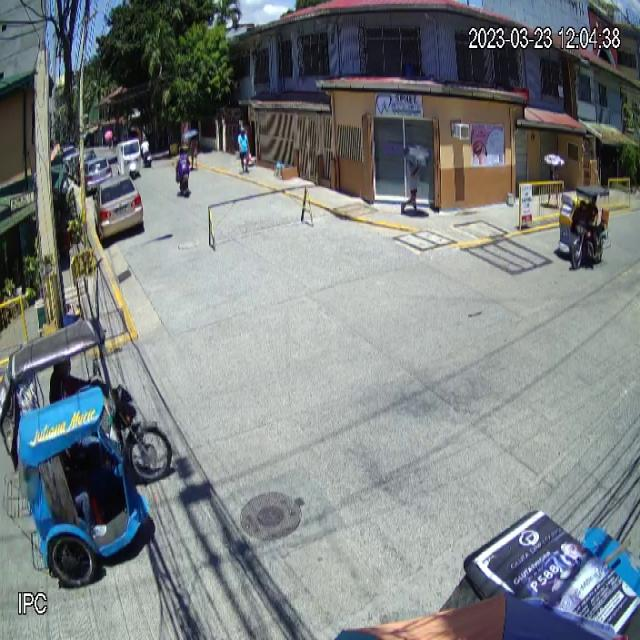Tricycle: (0, 320, 175, 592), (557, 178, 607, 270)
